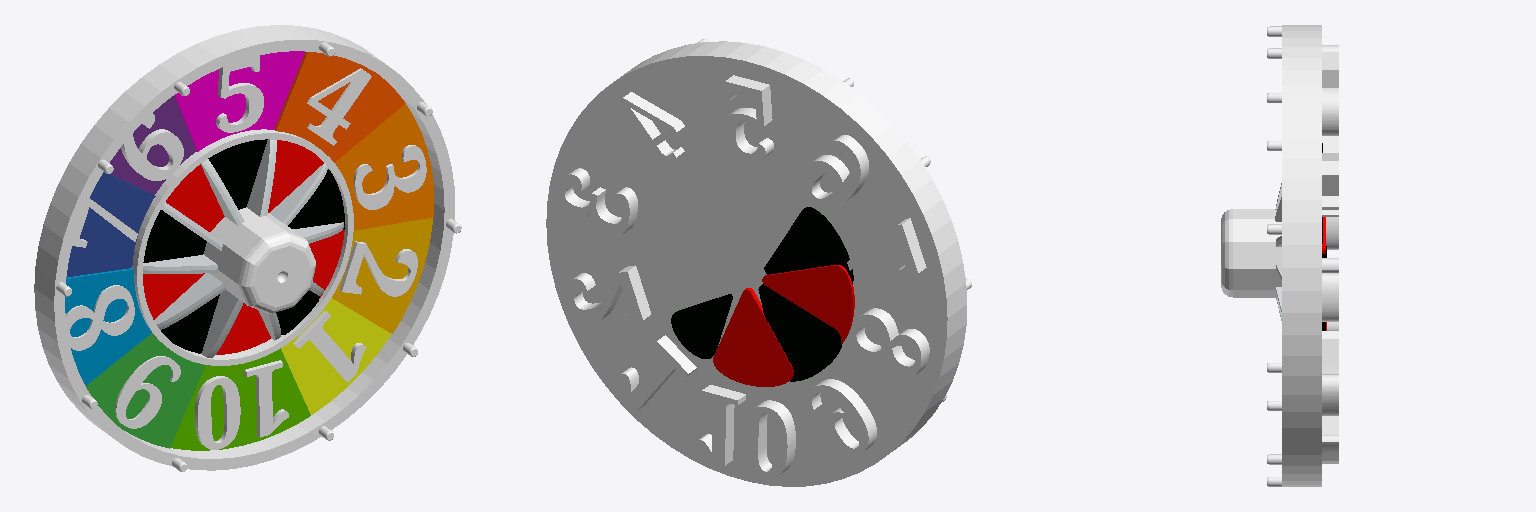
The model's file is tinker.obj.
The picture shows the model from 3 angles: view 1: azimuth 30°, elevation 25°; view 2: azimuth 150°, elevation 25°; view 3: azimuth 270°, elevation 25°; orthographic projection.
Parts seen in each view (by area): view 1: obj_0; view 2: obj_0; view 3: obj_0.
Boxes of the visible parts, x1=… form: obj_0: x1=34, y1=25, x2=461, y2=471; obj_0: x1=546, y1=39, x2=971, y2=486; obj_0: x1=1221, y1=25, x2=1338, y2=486.
Size of the model in its own units: 49 by 49 by 12.47.